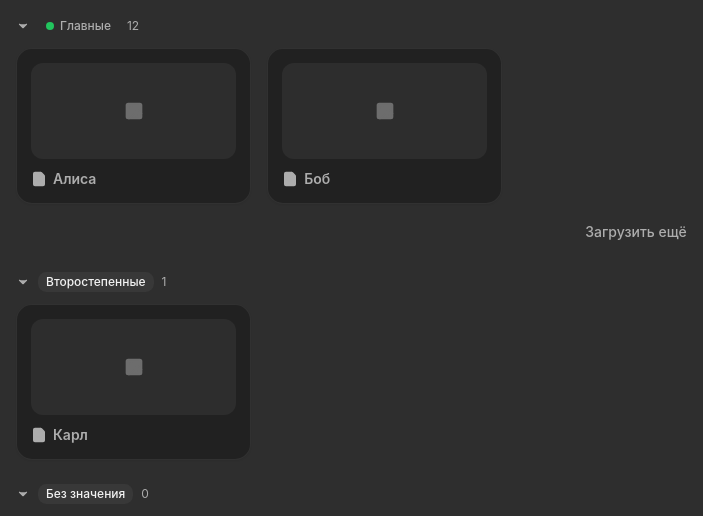
GalleryLanesView › folds and unfolds a group
Step 1. Click the button "Главные 12" → (78, 26), box [16, 16, 139, 36]
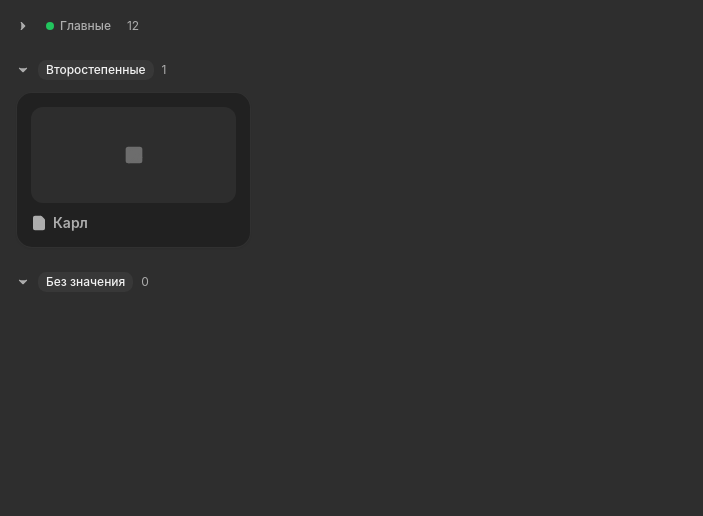
Check: the button "Алиса" is gone
Step 2. Click the button "Главные 12" → (78, 26), box [16, 16, 139, 36]
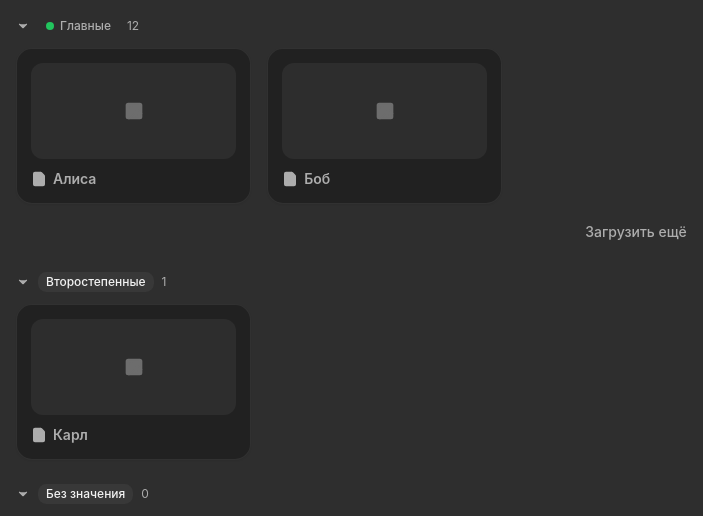
Check: the text "Алиса" is shown, box [53, 170, 96, 187]
